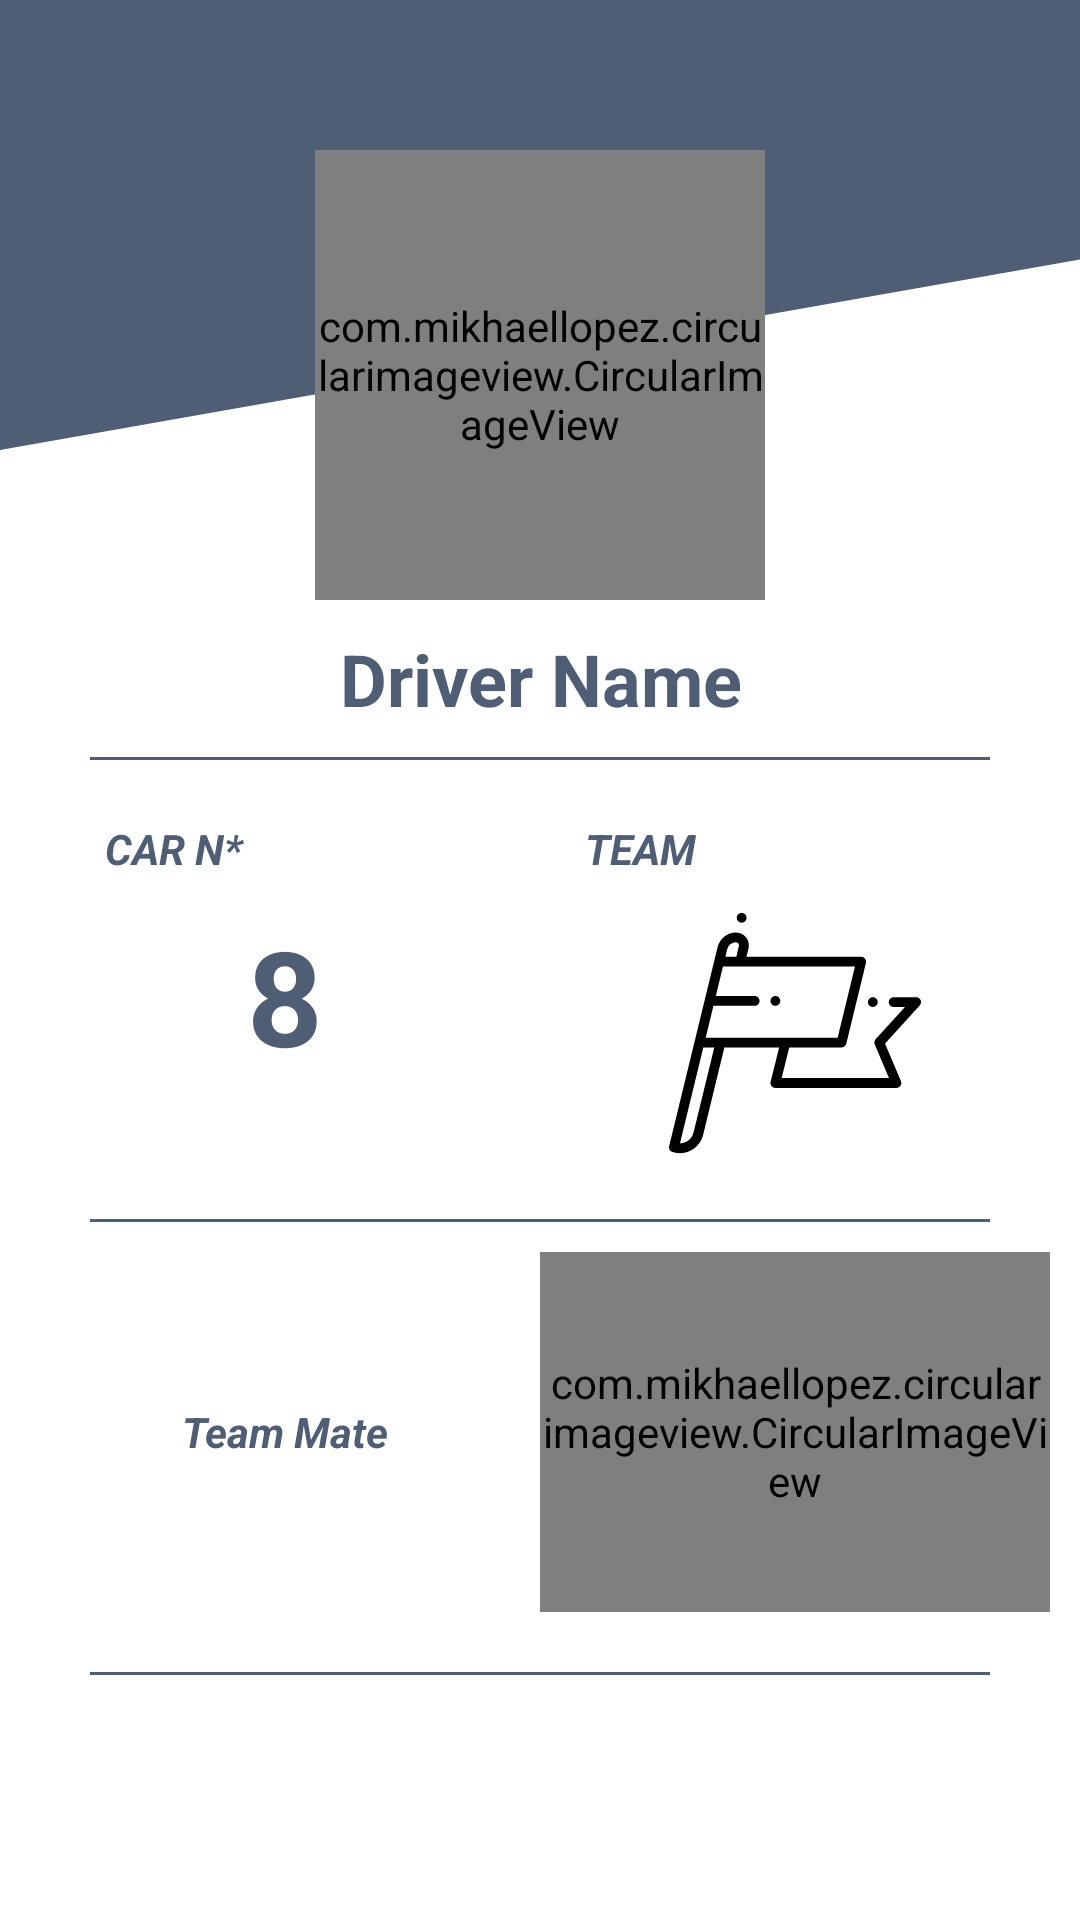

Point at icon controls on the screen. Image size 1080px x 1920px, points as [x,y].
flag: [795,1033]
